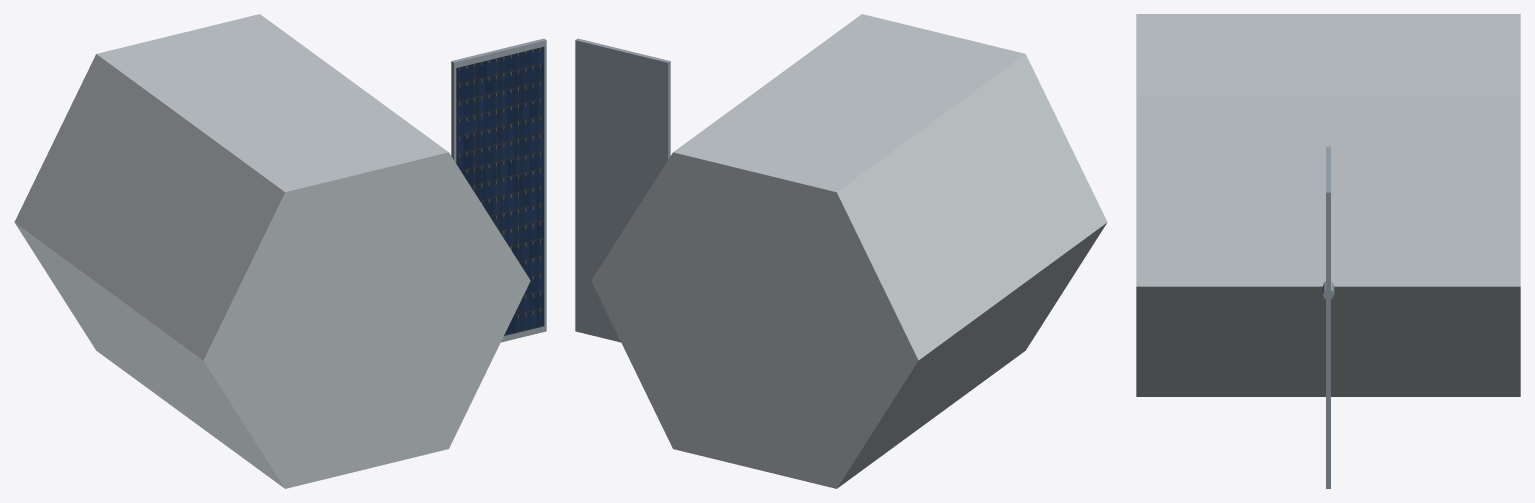
Rendered from ref-seosat-44874.glb.
3 renders of one model, left to right at view 1: azimuth 30°, elevation 25°; view 2: azimuth 150°, elevation 25°; view 3: azimuth 270°, elevation 25°, orthographic.
Parts seen in each view (by area): view 1: Spacecraft body, Photovoltaic laminates, Array frame; view 2: Spacecraft body, Array frame; view 3: Spacecraft body, Array frame.
Boxes of the visible parts, <box> form: Spacecraft body: <box>14,14,530,488</box>; Photovoltaic laminates: <box>456,47,544,335</box>; Array frame: <box>451,38,546,342</box>; Spacecraft body: <box>591,14,1107,488</box>; Array frame: <box>575,38,670,342</box>; Spacecraft body: <box>1136,14,1520,396</box>; Array frame: <box>1326,146,1330,488</box>.
Bounding box in the file's own units: 2 × 1.3 × 1.5.
3 materials, 1 textured.
